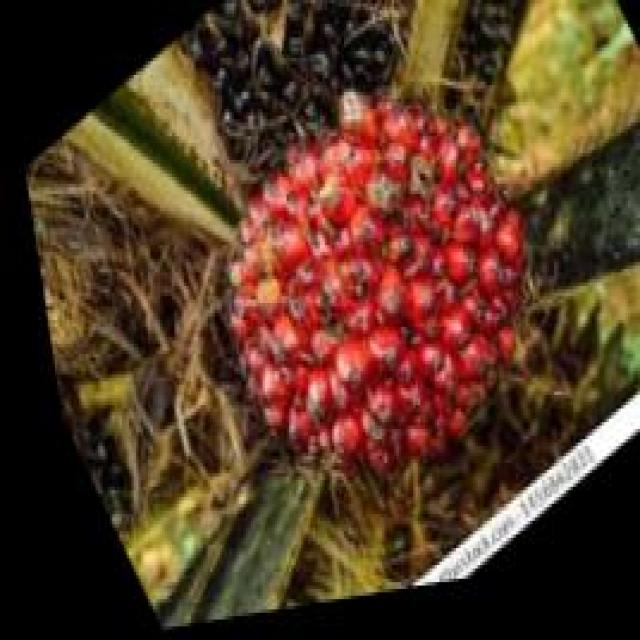Ripefruit: (148, 21, 588, 568)
